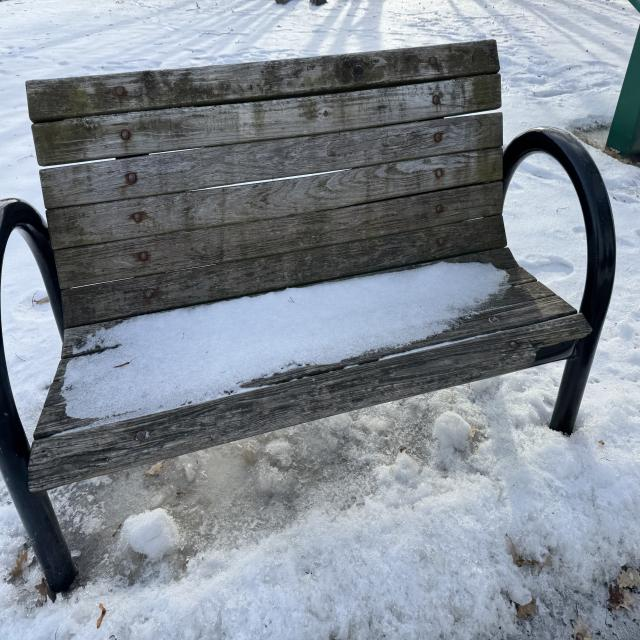Bench: (2, 68, 618, 587)
